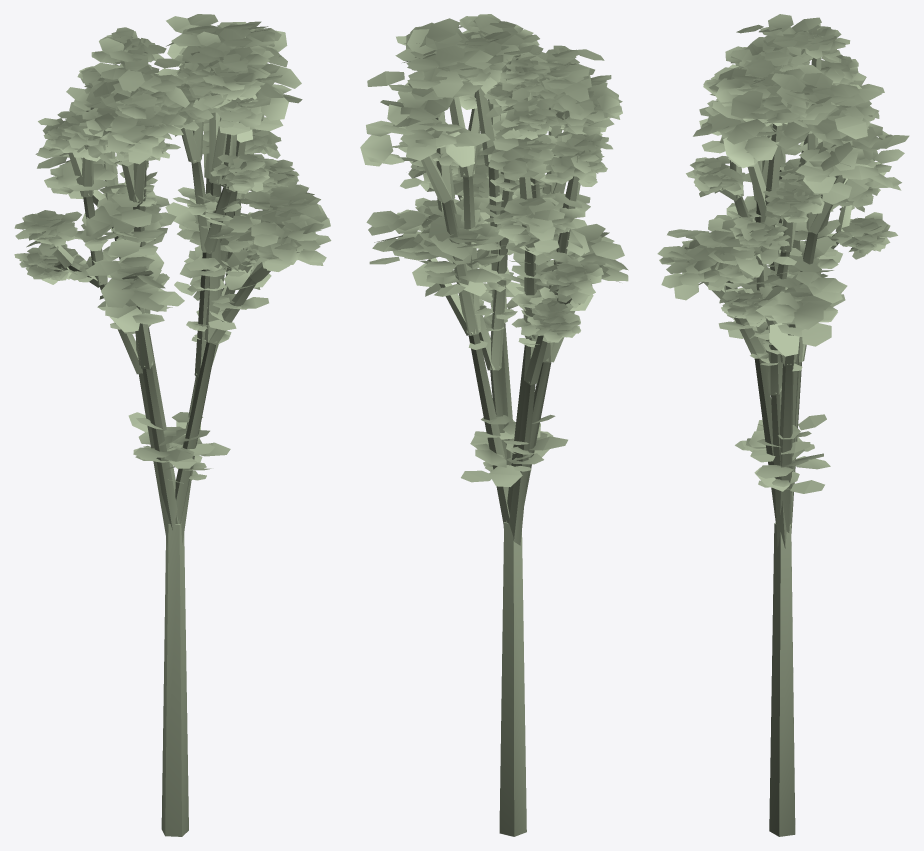
Rendered from tree_aspen.glb.
3 renders of one model, left to right at view 1: azimuth 30°, elevation 25°; view 2: azimuth 150°, elevation 25°; view 3: azimuth 270°, elevation 25°, orthographic.
Visible parts, largest first — view 1: tier1_foliage, tier0_foliage, tier2_foliage, tier1_bark, tier2_bark, tier0_bark; view 2: tier0_foliage, tier1_foliage, tier2_foliage, tier1_bark, tier0_bark, tier2_bark; view 3: tier0_foliage, tier1_foliage, tier2_foliage, tier1_bark, tier0_bark, tier2_bark.
Boxes of the visible parts, x1,y1,x2,y2 form: tier1_foliage: (35,31,331,468); tier0_foliage: (67,14,302,470); tier2_foliage: (14,27,320,483); tier1_bark: (92,112,270,836); tier2_bark: (49,122,271,546); tier0_bark: (135,121,245,530); tier0_foliage: (360,18,628,486); tier1_foliage: (408,14,622,444); tier2_foliage: (398,50,612,471); tier1_bark: (458,88,566,836); tier0_bark: (421,93,575,525); tier2_bark: (437,84,580,545); tier0_foliage: (692,65,909,493); tier1_foliage: (657,14,904,462); tier2_foliage: (686,26,897,489); tier1_bark: (704,147,847,836); tier0_bark: (747,123,845,532); tier2_bark: (719,57,859,548).
Bounding box in the file's own units: 0.3269 × 1 × 0.2912.
